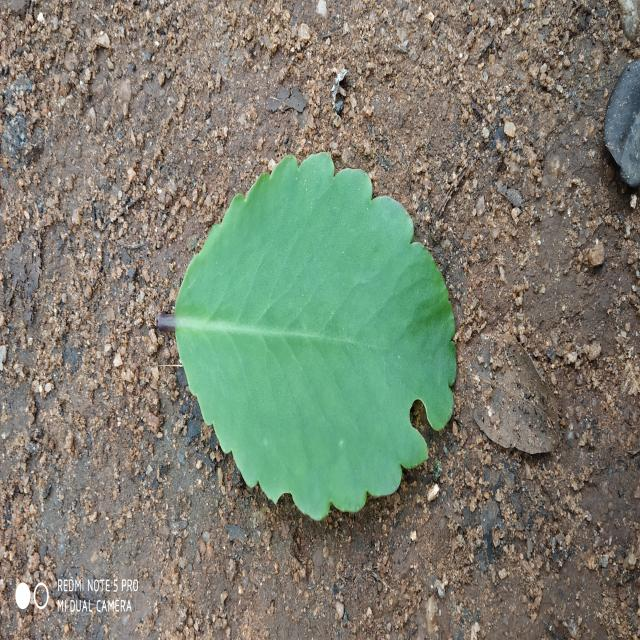spinach: (174, 153, 456, 520)
